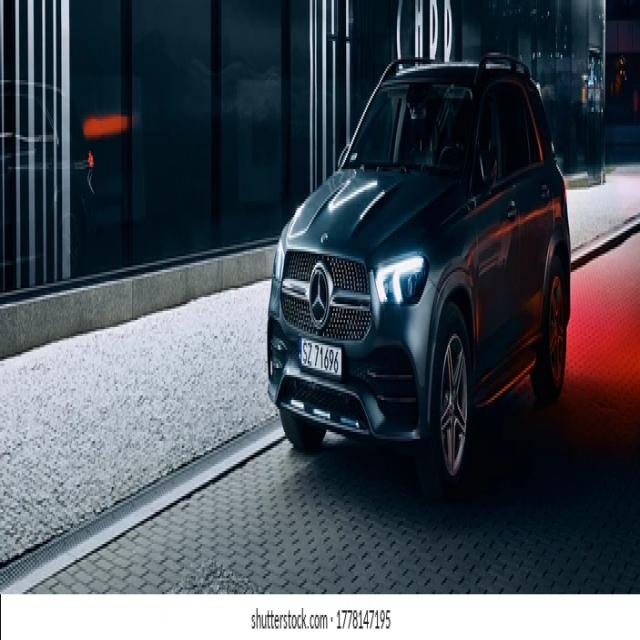mercedes: (310, 263, 328, 330)
